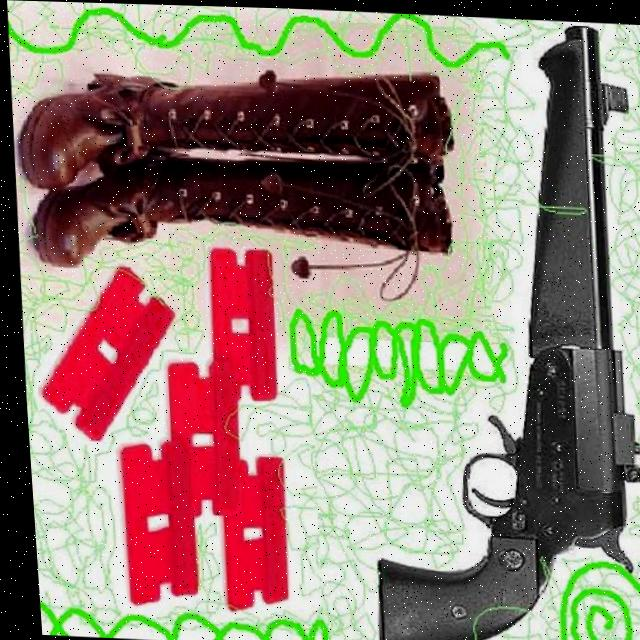pistol: (335, 14, 640, 640)
